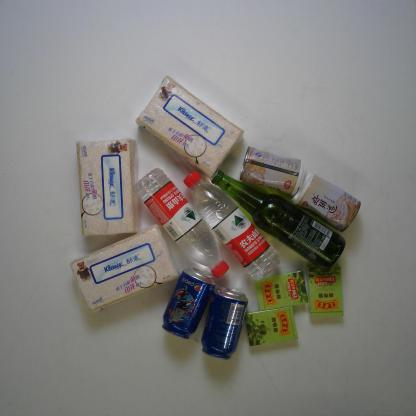Alcohol: (210, 166, 347, 276)
Candy: (297, 256, 352, 329), (246, 301, 304, 356), (257, 264, 308, 318)
Canned Food: (290, 171, 362, 233), (239, 145, 305, 197)
Drink: (130, 164, 238, 291), (182, 160, 281, 282), (160, 260, 216, 342), (197, 281, 251, 362)
Tissue: (131, 70, 242, 178), (70, 223, 179, 318), (72, 136, 150, 247)
